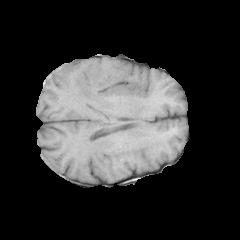glioma: (73, 71, 119, 108)
